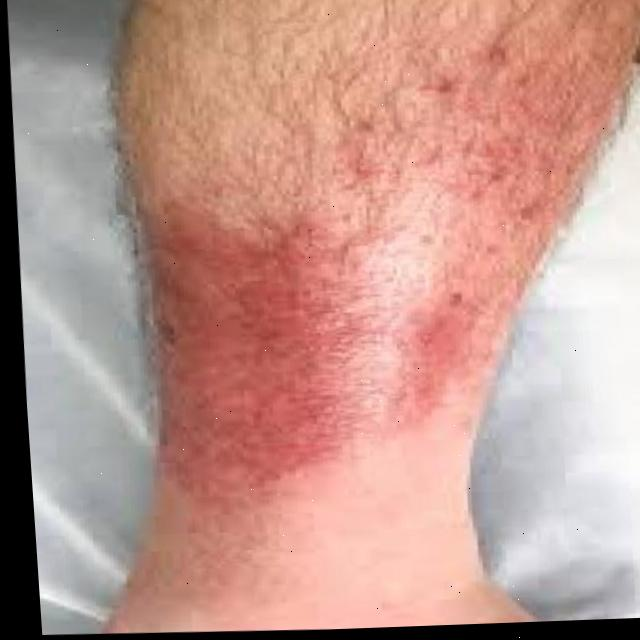Eczema: (108, 0, 640, 506)
